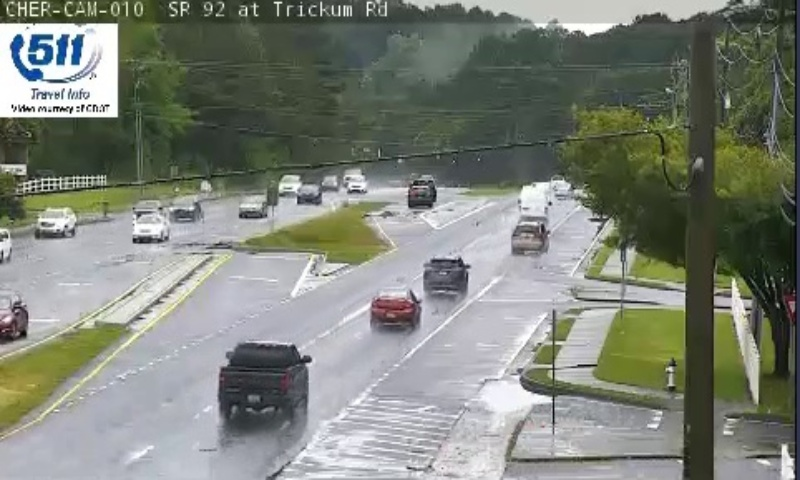car: (217, 341, 308, 409), (371, 290, 419, 324), (423, 256, 468, 292), (511, 220, 547, 250)
van: (519, 185, 547, 220)
